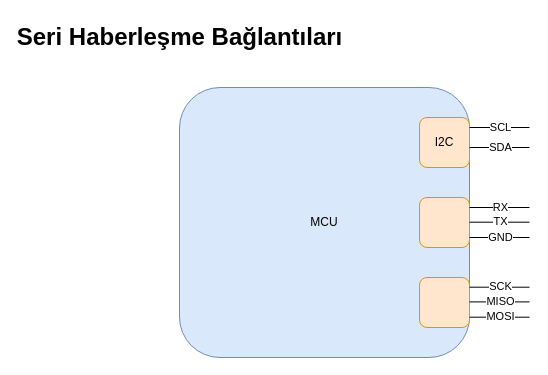
Image size: 548x375. Some labels were removed from this diagram. Here are the shapes that lost their labels. From the top down, the centre of each, then its label:
pixel 444 222: UART
pixel 444 302: SPI
